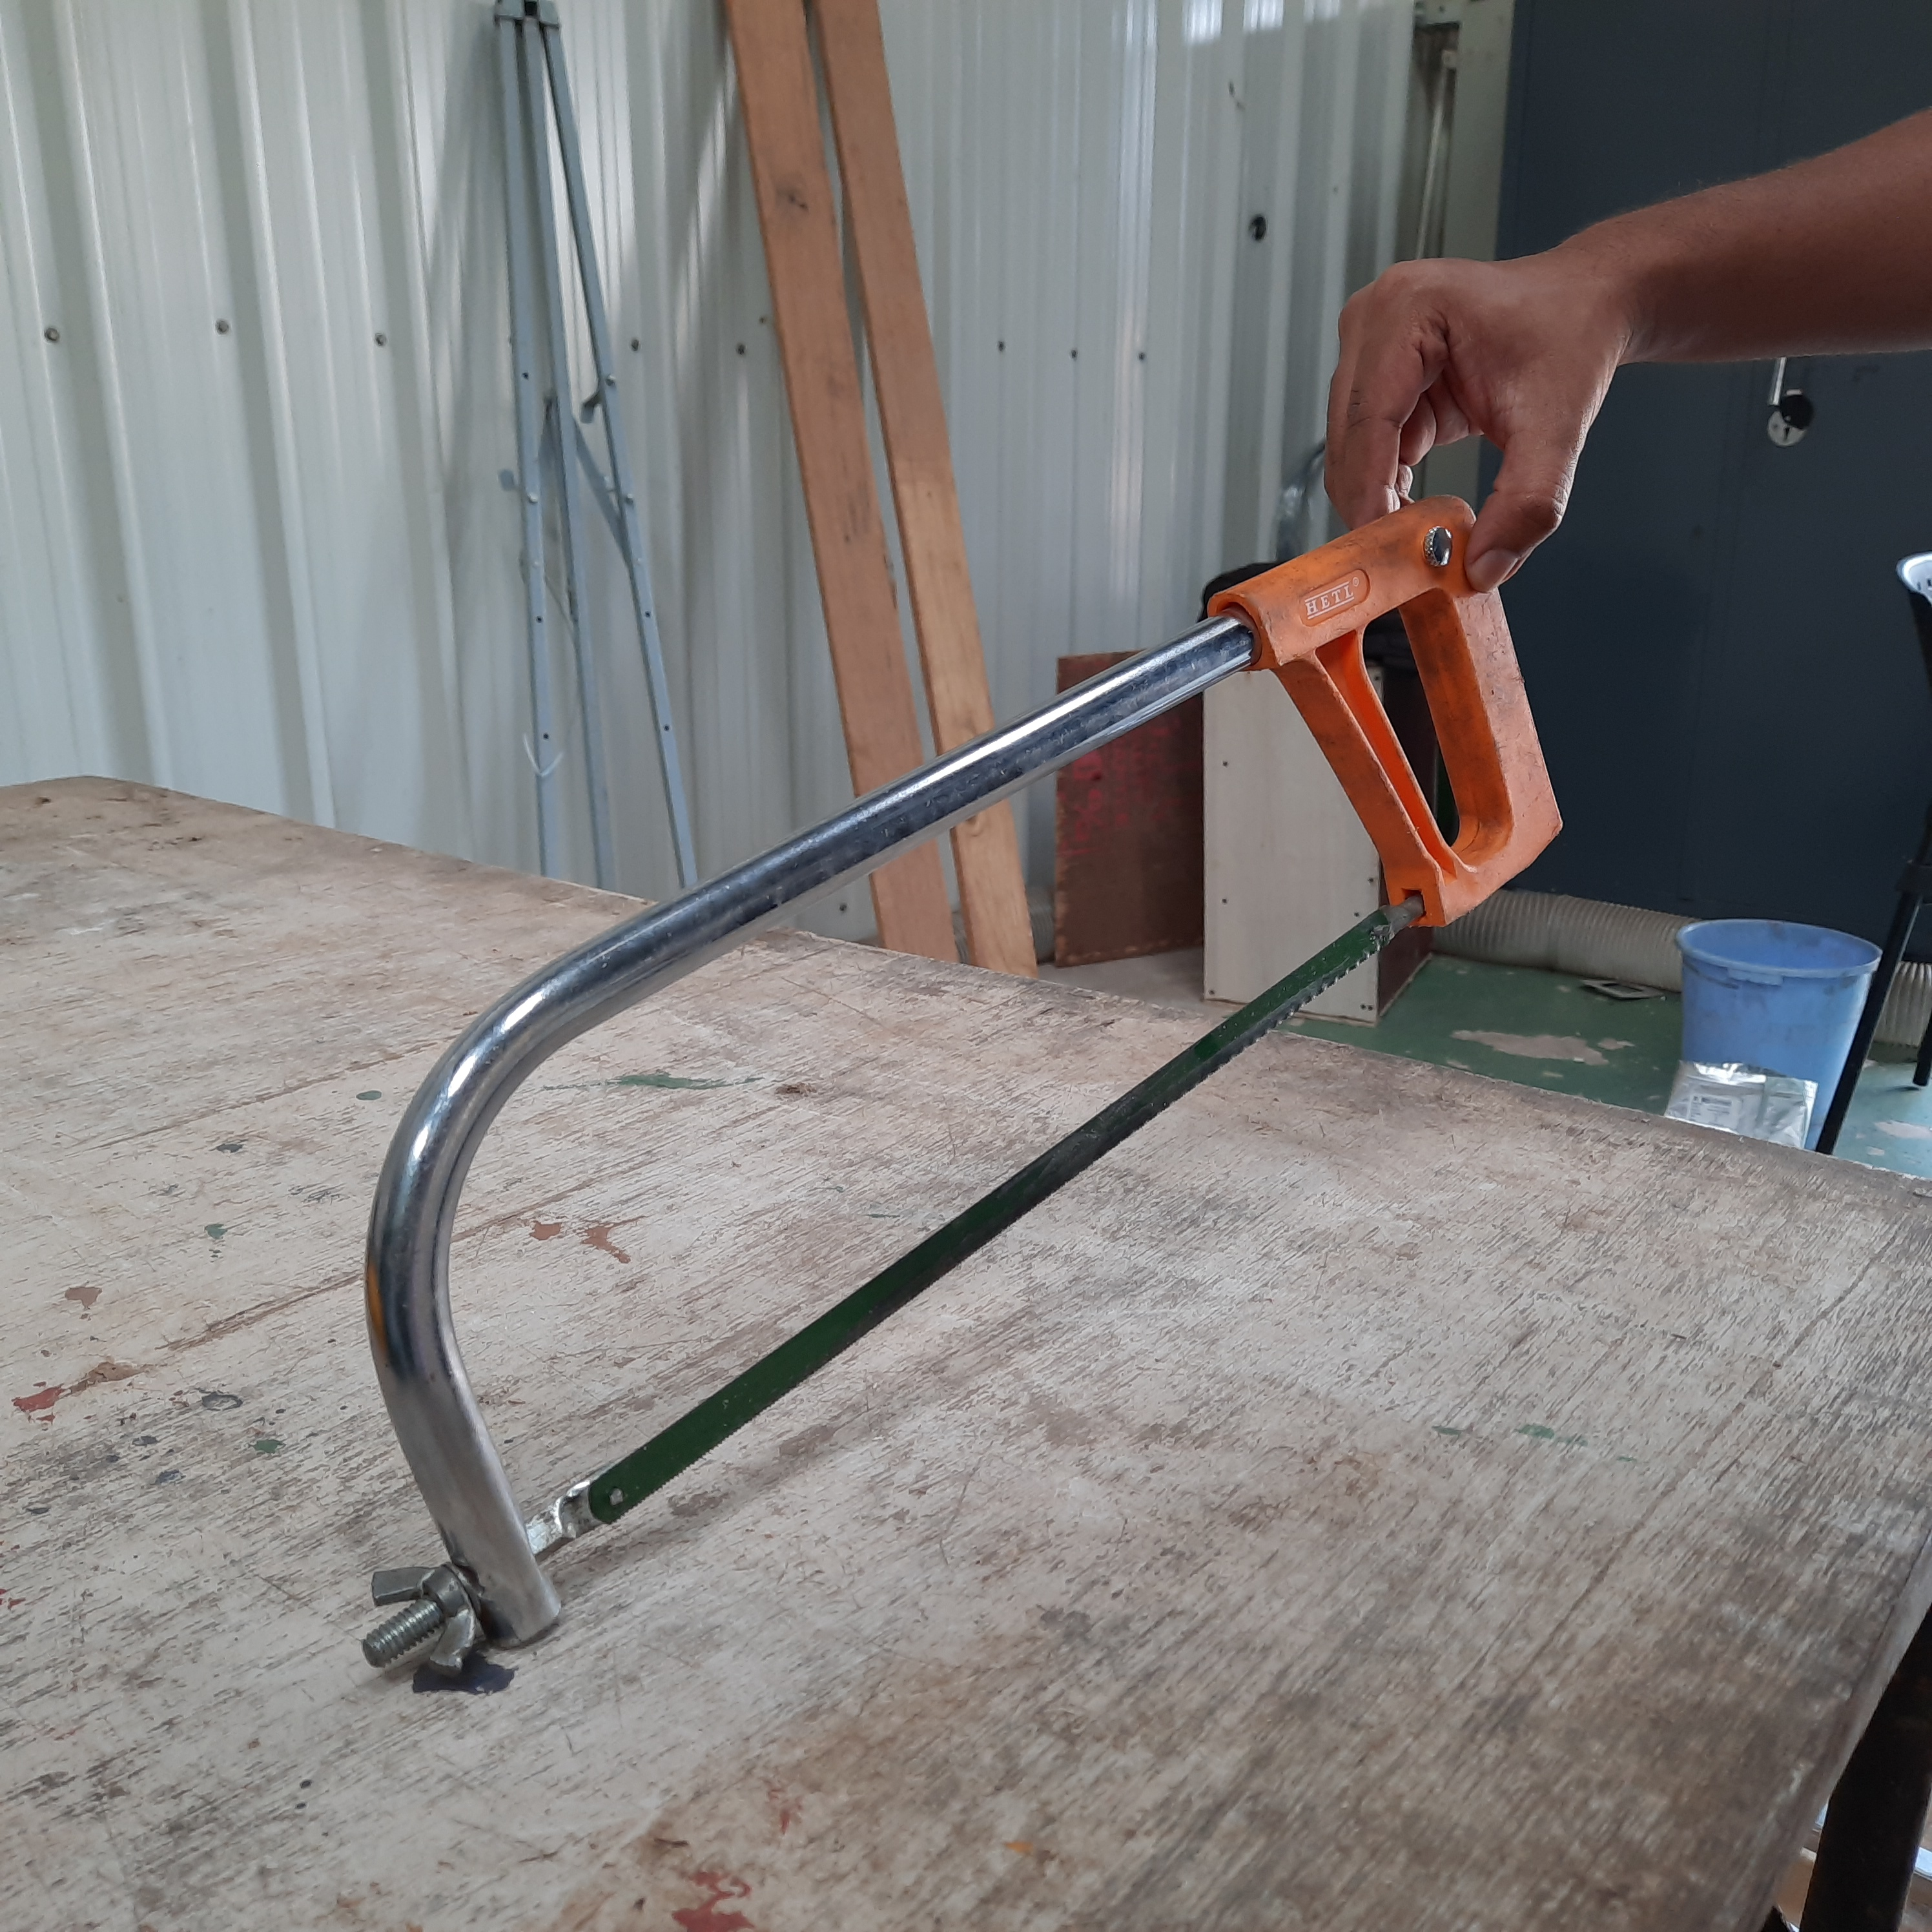Hexaframe: (292, 490, 1583, 1720)
